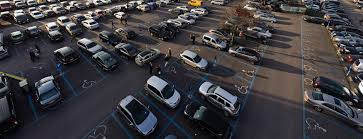car: (301, 89, 363, 133), (113, 94, 161, 135), (180, 98, 228, 139), (199, 78, 245, 114), (310, 73, 357, 104), (141, 75, 182, 109), (32, 74, 66, 106), (177, 48, 211, 72), (228, 44, 264, 65), (90, 52, 119, 75), (199, 32, 225, 54), (49, 45, 79, 63), (246, 22, 274, 41), (301, 12, 329, 30), (73, 39, 103, 54), (147, 25, 173, 41), (113, 42, 137, 59), (96, 31, 117, 45), (63, 22, 81, 36), (44, 31, 65, 42), (79, 20, 101, 30), (253, 13, 277, 21), (177, 15, 196, 25), (191, 6, 207, 16)
